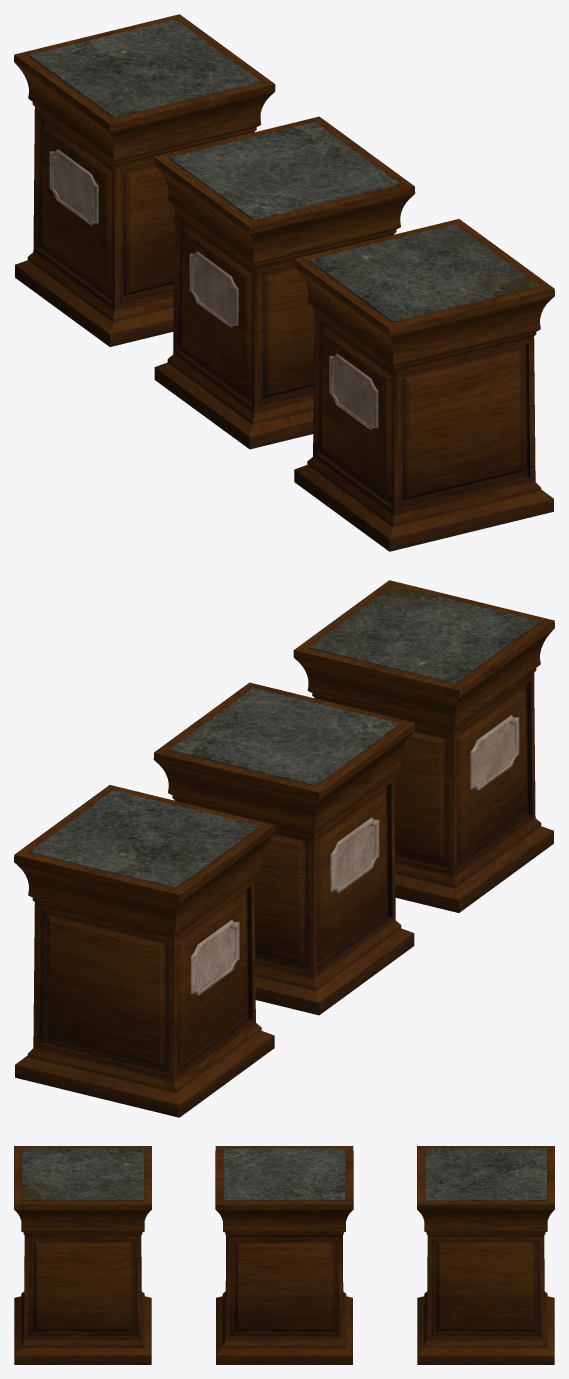
File: pedestal.glb
3 renders of one model, top to bottom at view 1: azimuth 30°, elevation 25°; view 2: azimuth 150°, elevation 25°; view 3: azimuth 270°, elevation 25°, orthographic. The views are drawn at different scales.
Parts seen in each view (by area): view 1: MuseumPlinthe03_2, MuseumPlinthe02_1, MuseumPlinthe01_0; view 2: MuseumPlinthe01_0, MuseumPlinthe02_1, MuseumPlinthe03_2; view 3: MuseumPlinthe01_0, MuseumPlinthe03_2, MuseumPlinthe02_1.
Boxes of the visible parts, left/top/right/bottom form: MuseumPlinthe03_2: left=293, top=219, right=554, bottom=551; MuseumPlinthe02_1: left=153, top=116, right=415, bottom=449; MuseumPlinthe01_0: left=14, top=14, right=275, bottom=346; MuseumPlinthe01_0: left=14, top=785, right=275, bottom=1117; MuseumPlinthe02_1: left=153, top=682, right=415, bottom=1015; MuseumPlinthe03_2: left=293, top=580, right=554, bottom=912; MuseumPlinthe01_0: left=417, top=1146, right=554, bottom=1364; MuseumPlinthe03_2: left=14, top=1146, right=151, bottom=1364; MuseumPlinthe02_1: left=215, top=1146, right=353, bottom=1364.
Size of the model in its own units: 1.45 by 1.87 by 5.67.
Materials: 3 (3 with a texture image).
